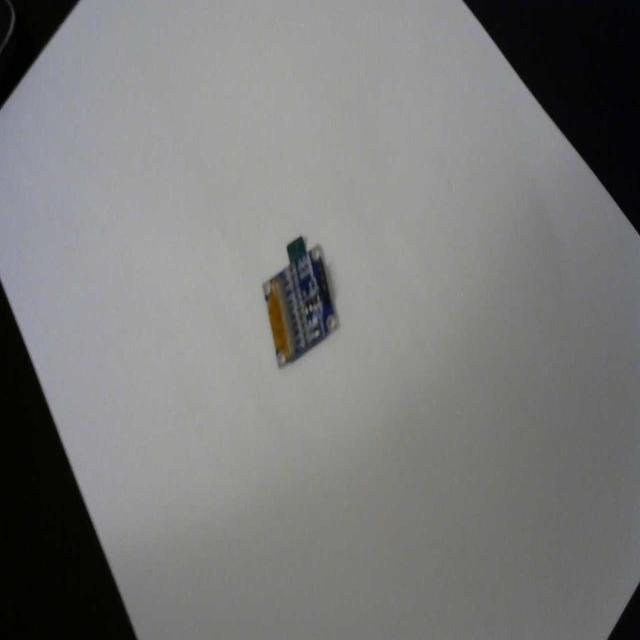oled: (262, 226, 345, 368)
